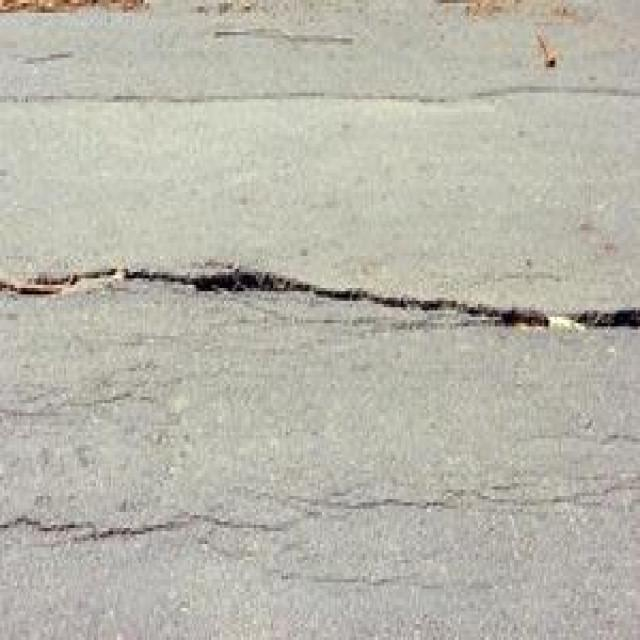road collapse: (5, 104, 640, 582)
